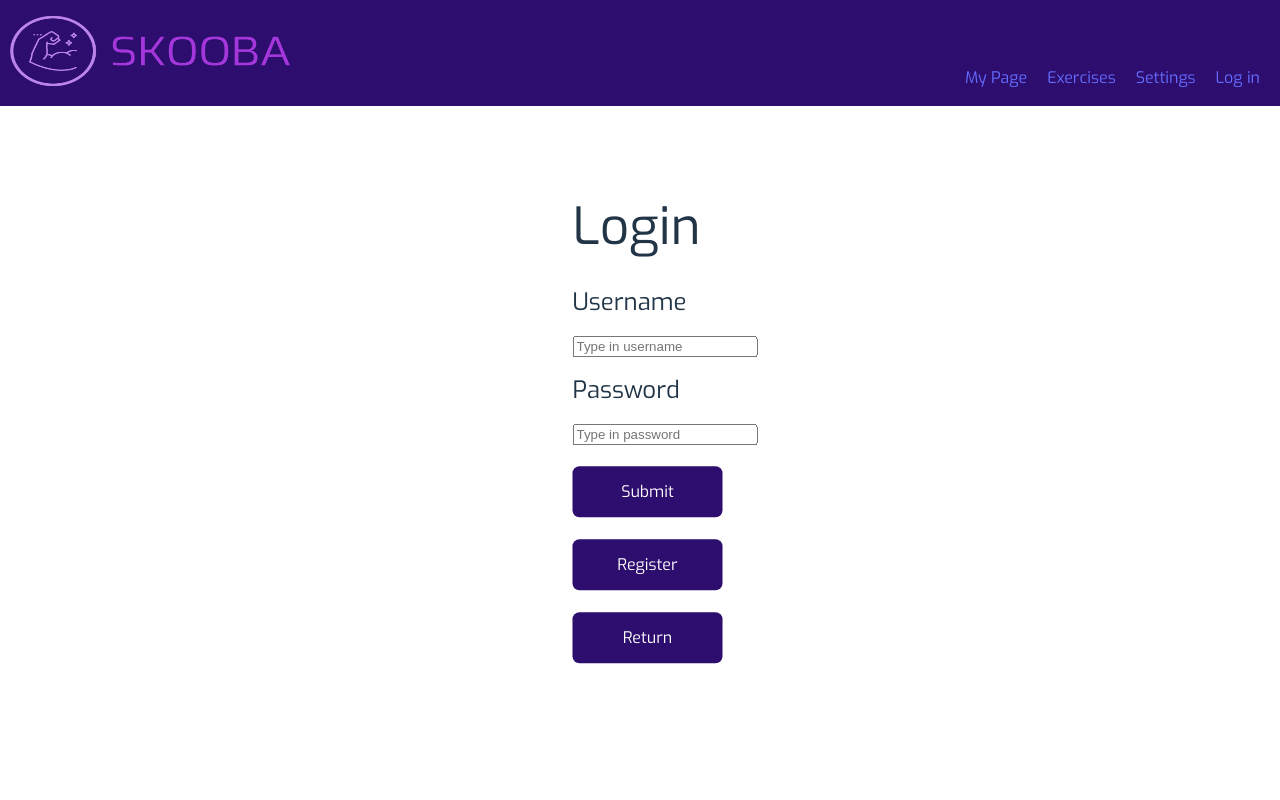
Test: Common login behaviour › Normal register redirects to login page
This screenshot has width=1280, height=800.
Type "user" into the field named "username".
click(666, 347); type("user")  # box [573,336,758,357]
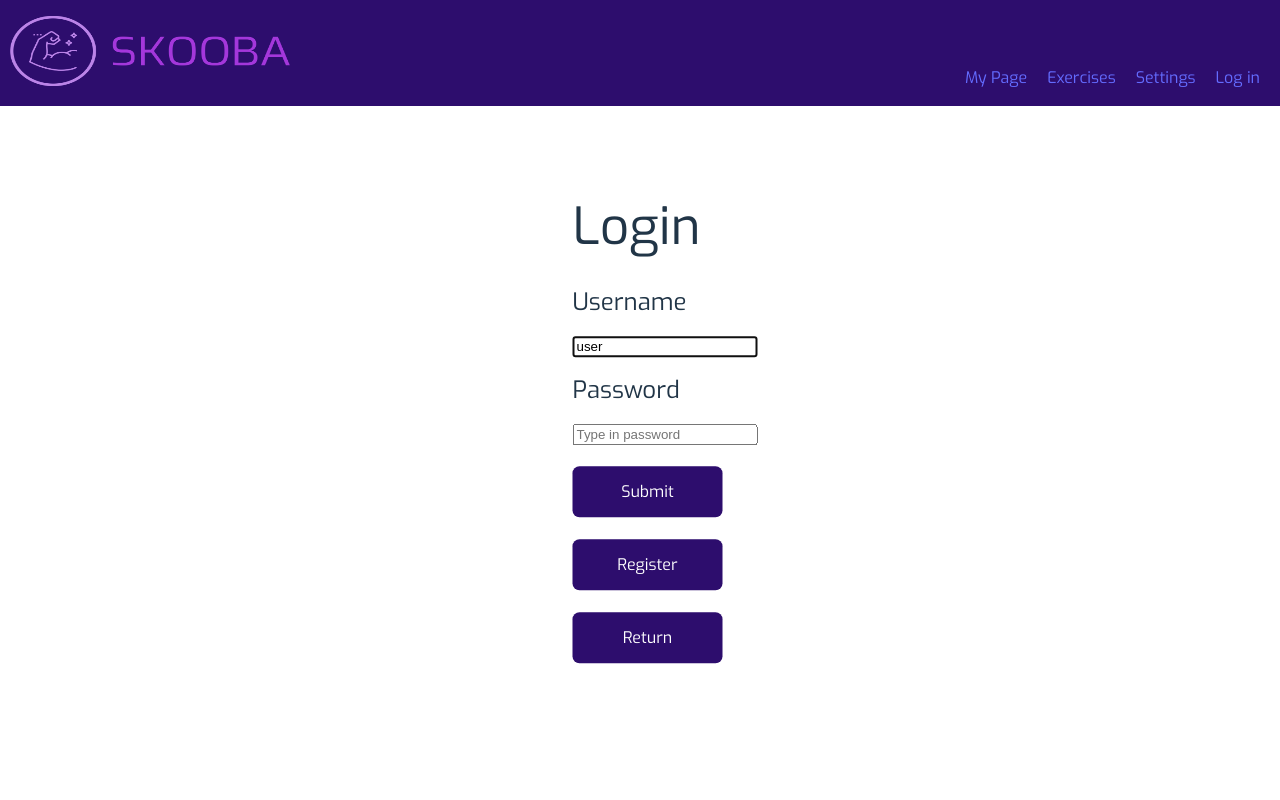
Type "password" into the password field named "password".
click(666, 435); type("password")  # box [573,424,758,445]
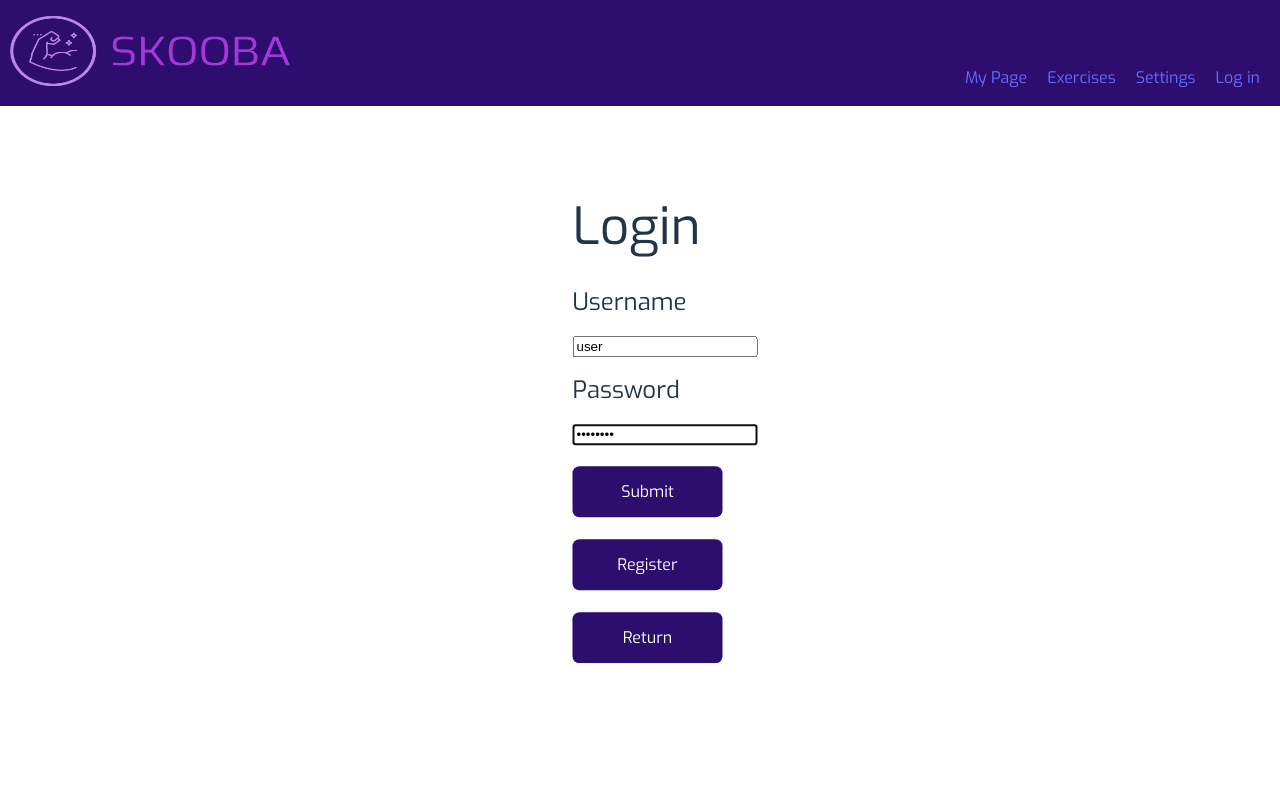
Click the button "Submit".
click(648, 492)  # box [573,466,723,517]
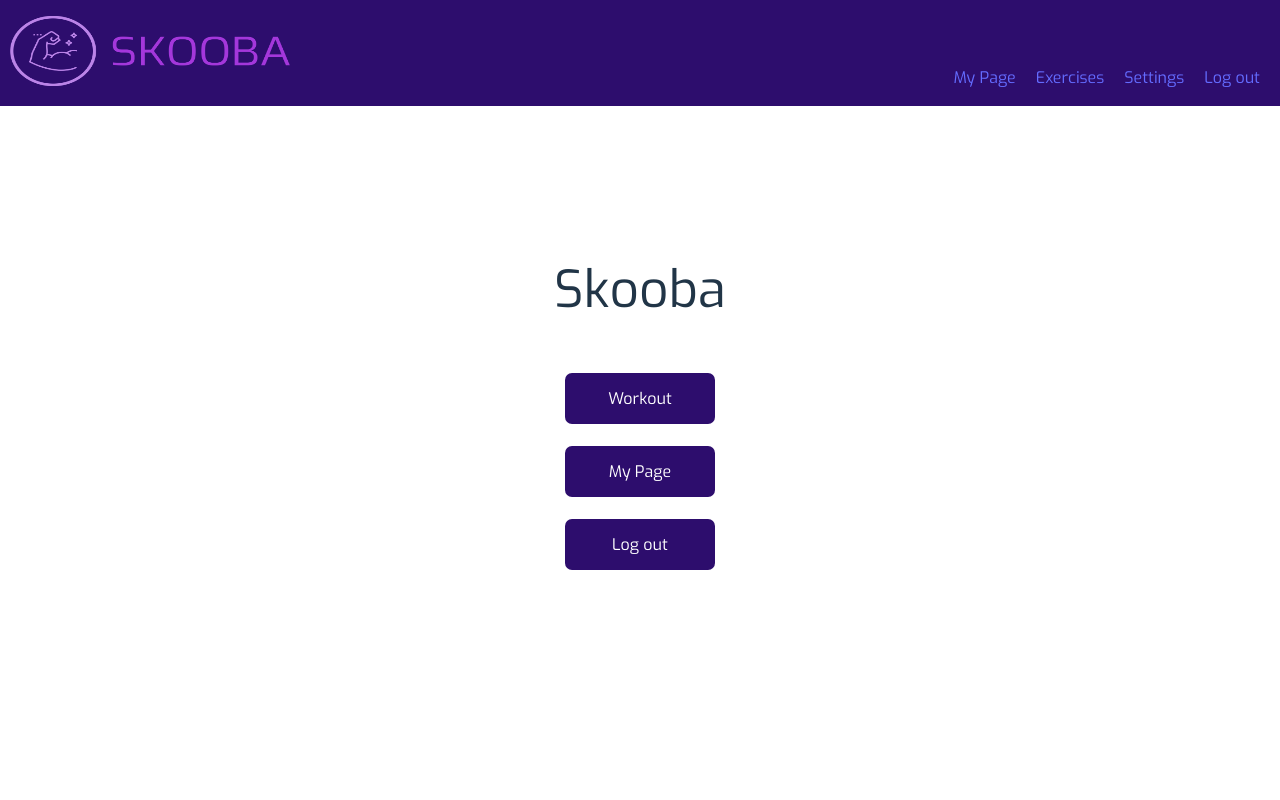
Expected: the heading "Skooba" is shown, [554,262,726,319]
Expected: the link "Log in" is gone
Expected: the link "Log out" next to "Settings" is shown, [1204,67,1260,88]
